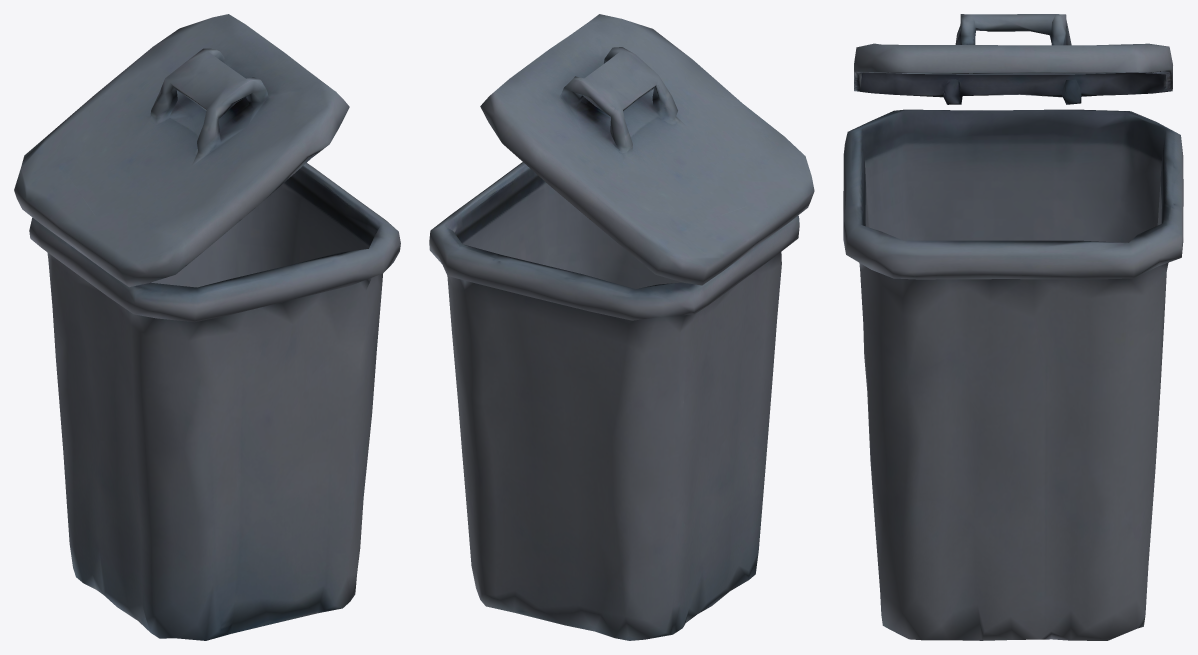
Rendered from tripo_convert_b35dca44-a1c1-4572-91ed-76dbb460ab53.fbx.
3 renders of one model, left to right at view 1: azimuth 30°, elevation 25°; view 2: azimuth 150°, elevation 25°; view 3: azimuth 270°, elevation 25°, orthographic. The views are drawn at different scales.
Parts seen in each view (by area): view 1: tripo_node_b35dca44; view 2: tripo_node_b35dca44; view 3: tripo_node_b35dca44.
Part boxes in pixels (<box>): tripo_node_b35dca44: <box>14,14,400,640</box>; tripo_node_b35dca44: <box>429,14,814,640</box>; tripo_node_b35dca44: <box>843,14,1183,640</box>.
Size of the model in its own units: 0.5712 by 0.9994 by 0.5297.
1 material, 1 textured.
